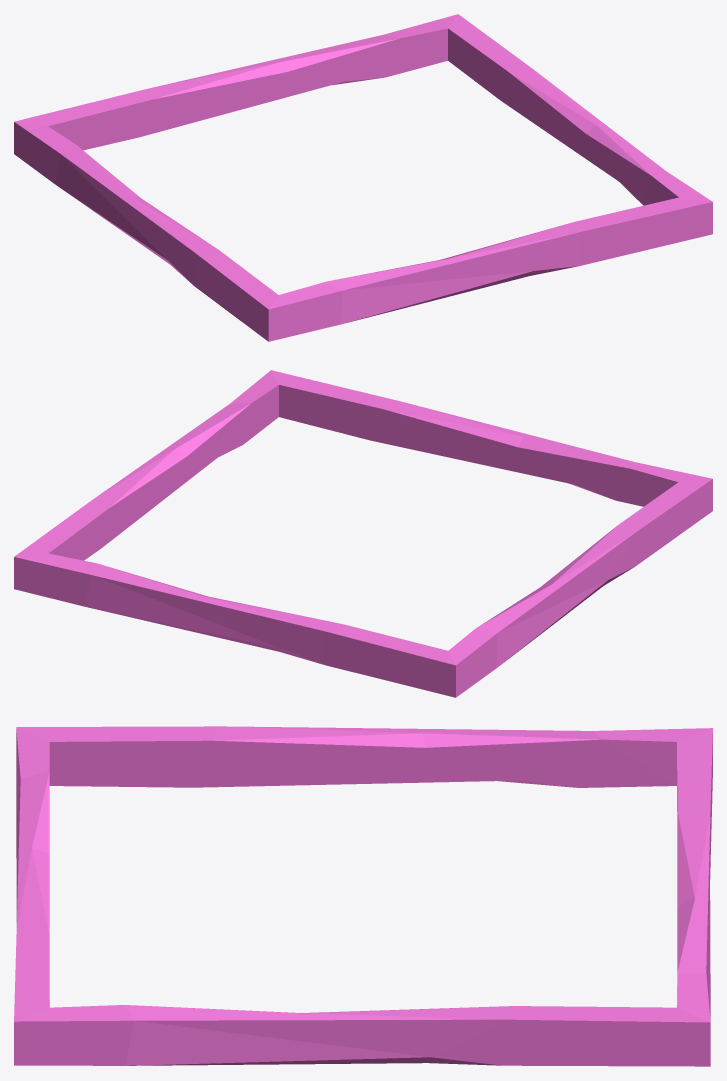
File: SM_Tower_Square_6m_Trim_Wood_Fantasy.fbx
The picture shows the model from 3 angles, top to bottom: view 1: azimuth 30°, elevation 25°; view 2: azimuth 150°, elevation 25°; view 3: azimuth 270°, elevation 25°; orthographic projection. The views are drawn at different scales.
Parts seen in each view (by area): view 1: SM_Tower_Square_6m_Trim_Wood_Fantasy; view 2: SM_Tower_Square_6m_Trim_Wood_Fantasy; view 3: SM_Tower_Square_6m_Trim_Wood_Fantasy.
Boxes of the visible parts, box(x1,y1,x2,y2) form: SM_Tower_Square_6m_Trim_Wood_Fantasy: box(14, 14, 712, 341); SM_Tower_Square_6m_Trim_Wood_Fantasy: box(14, 370, 712, 697); SM_Tower_Square_6m_Trim_Wood_Fantasy: box(14, 726, 712, 1066).
Size of the model in its own units: 6.67 by 0.5095 by 6.67.
